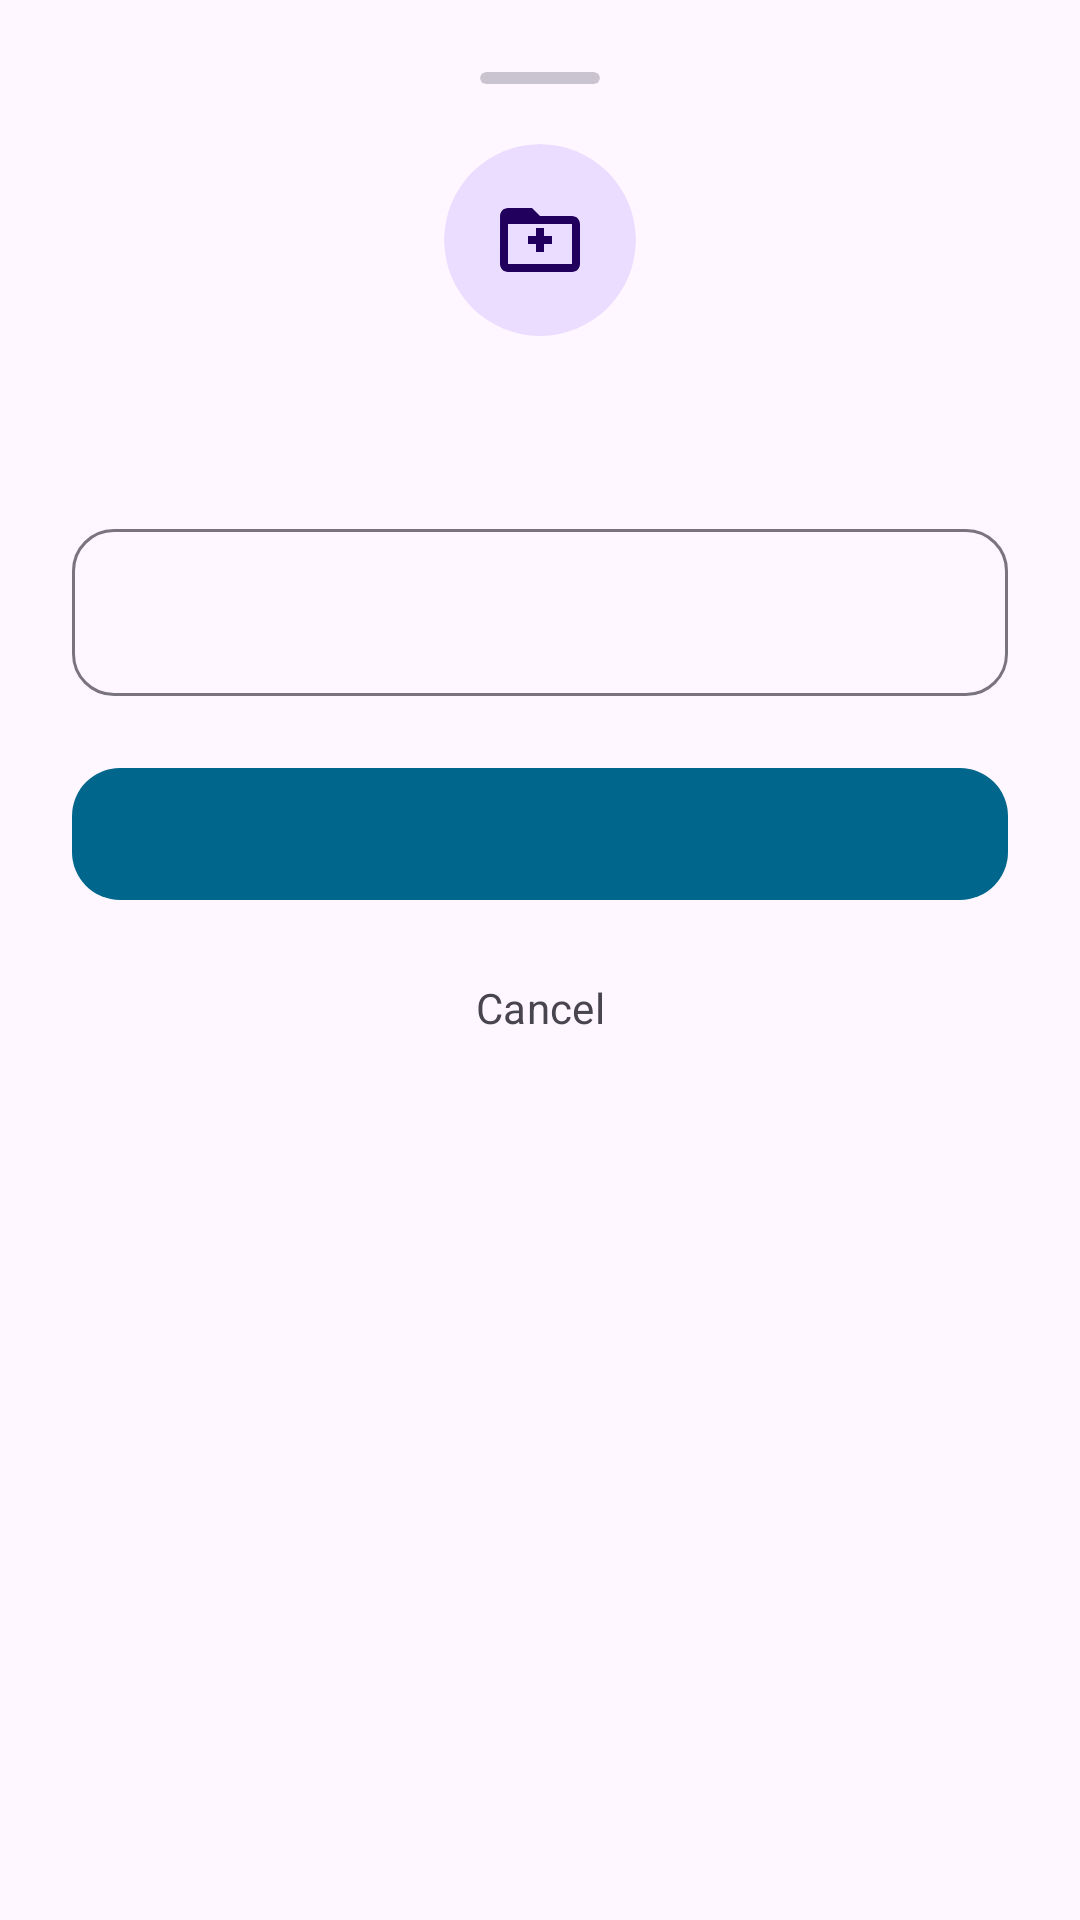

Named icons in this screenshot (1080×1920) and their centers, (x=x, y=y):
folder add: (x=540, y=240)
